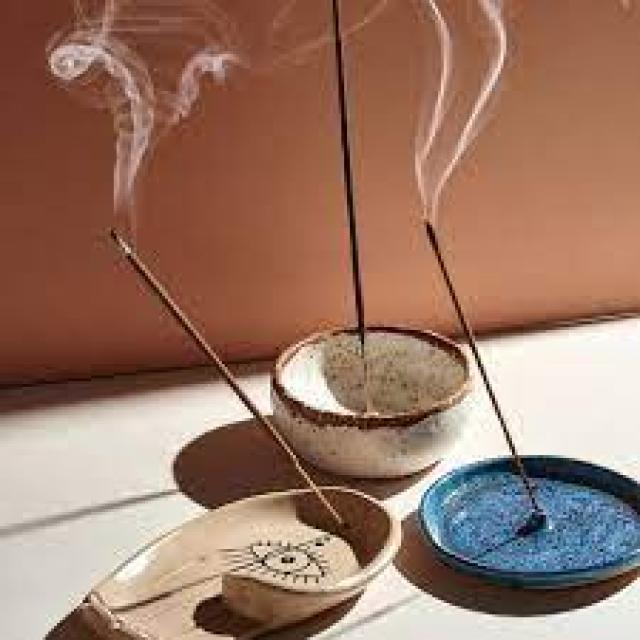Agarbatti: (99, 222, 341, 530), (416, 219, 539, 512), (324, 4, 382, 379)
